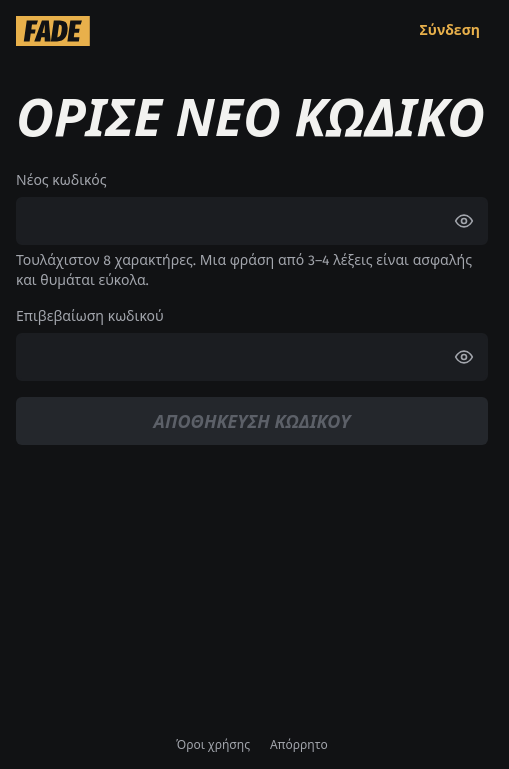
Test: sets a new password from the emailed link
The width and height of the screenshot is (509, 769).
Type "fade-at-nine" into the password field labelled "Νέος κωδικός".
click(252, 221); type("fade-at-nine")  # box [16, 197, 488, 245]
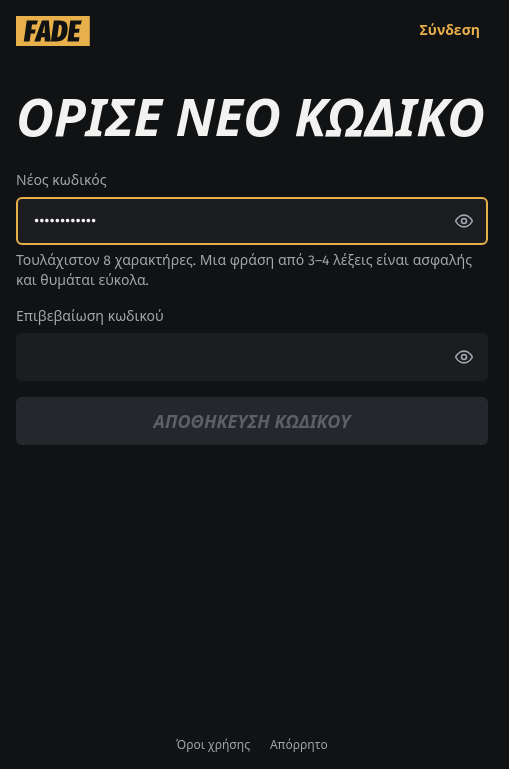
Type "fade-at-nine" into the password field labelled "Επιβεβαίωση κωδικού".
click(252, 357); type("fade-at-nine")  # box [16, 333, 488, 381]
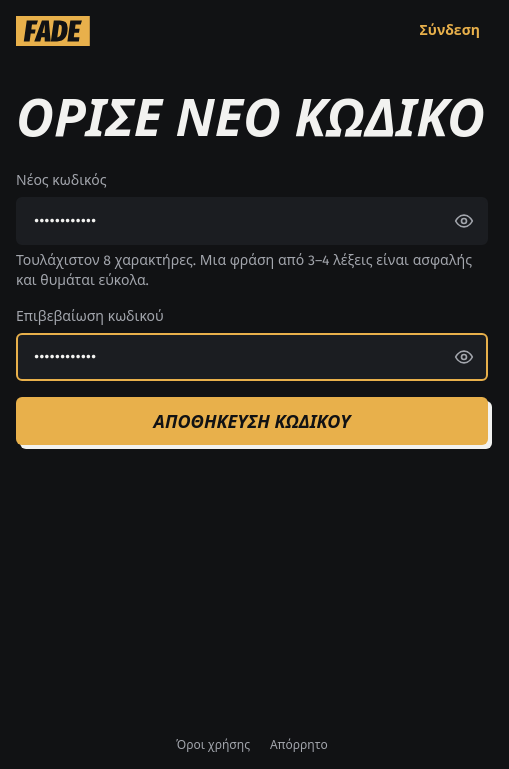
Click the button "Αποθήκευση κωδικού".
click(252, 421)  # box [16, 397, 488, 445]
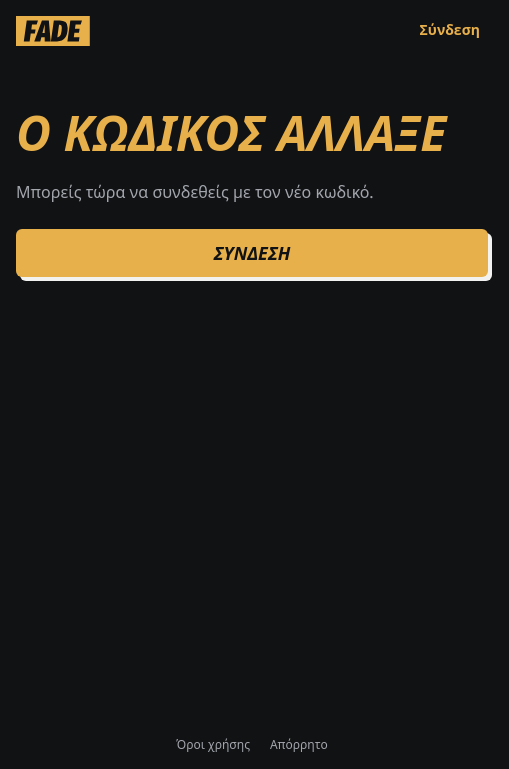
Expected: the heading "Ο κωδικός άλλαξε" is shown, [16, 109, 488, 157]
